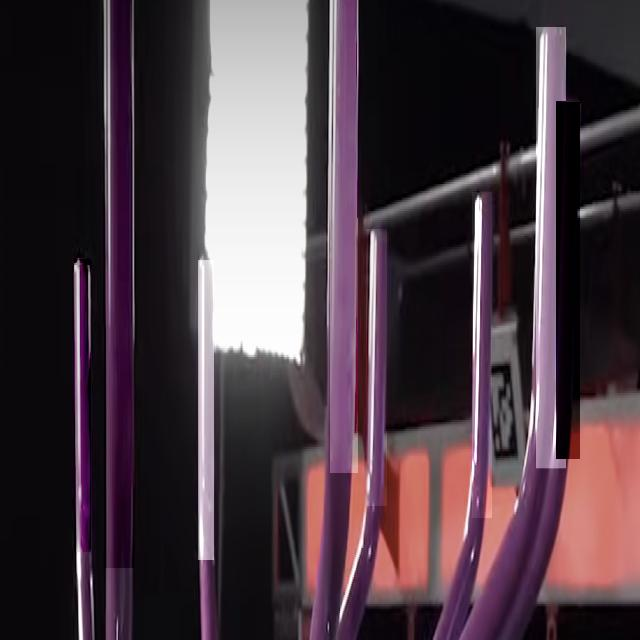Reef: (104, 0, 134, 568), (536, 28, 566, 470), (330, 0, 358, 473), (556, 102, 580, 459), (472, 192, 492, 518), (366, 229, 387, 506), (74, 259, 91, 552), (198, 260, 214, 560)
